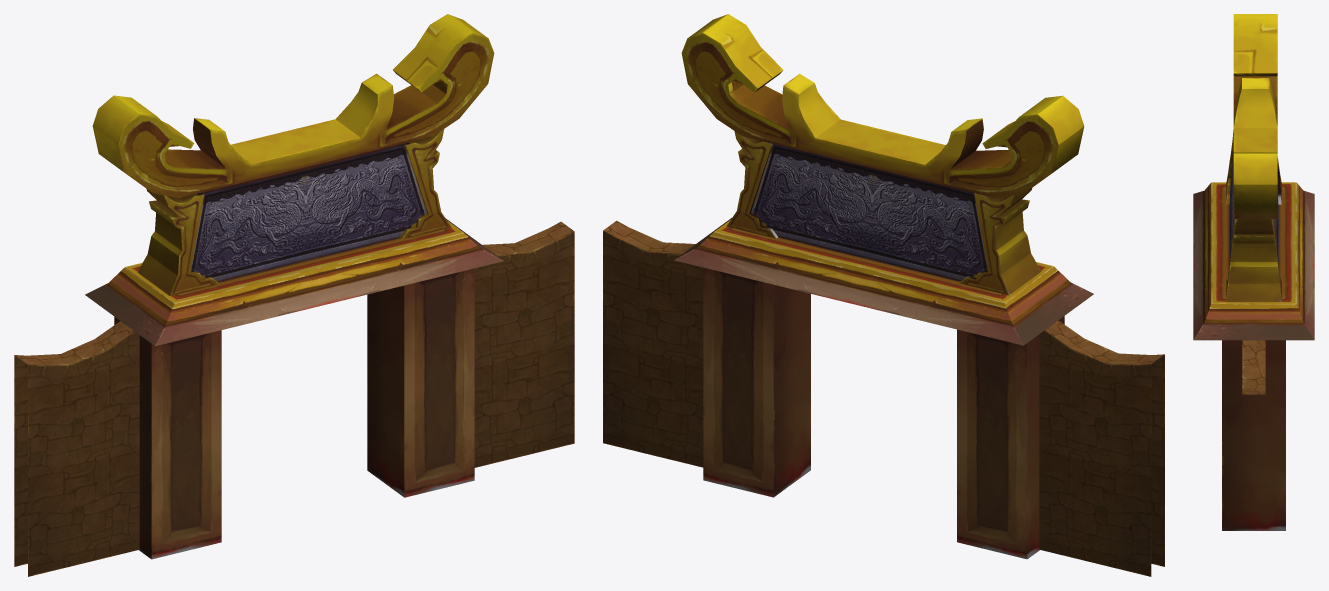
Rendered from Stage_01_02_DaMen01.FBX.
3 renders of one model, left to right at view 1: azimuth 30°, elevation 25°; view 2: azimuth 150°, elevation 25°; view 3: azimuth 270°, elevation 25°, orthographic. The views are drawn at different scales.
Parts seen in each view (by area): view 1: Stage_01_02_DaMen01; view 2: Stage_01_02_DaMen01; view 3: Stage_01_02_DaMen01.
Boxes of the visible parts, x1,y1,x2,y2 form: Stage_01_02_DaMen01: [14, 14, 574, 576]; Stage_01_02_DaMen01: [603, 14, 1164, 576]; Stage_01_02_DaMen01: [1193, 14, 1314, 530].
Size of the model in its own units: 1281 by 988 by 286.
